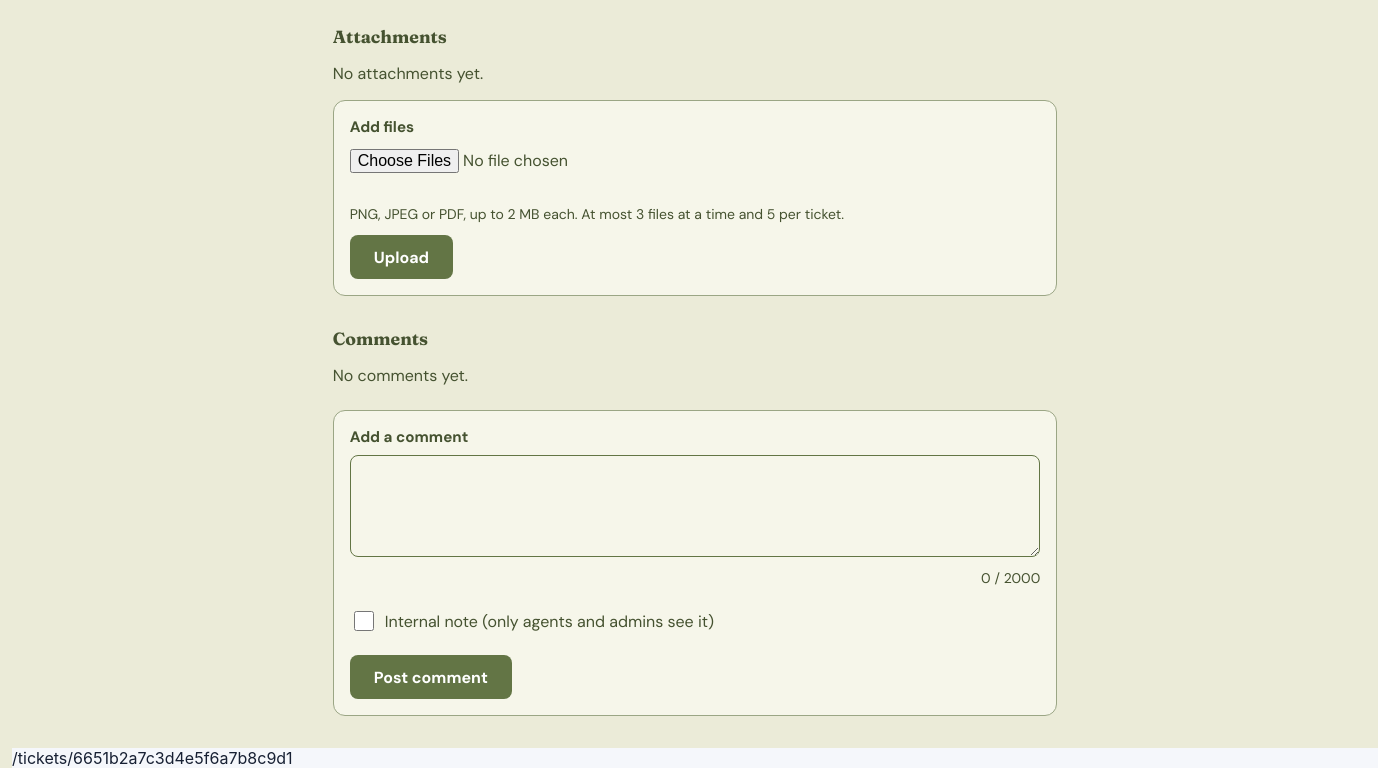
Test case: comment form › lets an agent post an internal note
(page scrolled)
Expected: the checkbox labelled "Internal note (only agents and admins see it)" is not checked, [354,611,374,631]
Type "Checked the logs." into the text box labelled "Add a comment" at (695, 506), box [350,455,1040,557]
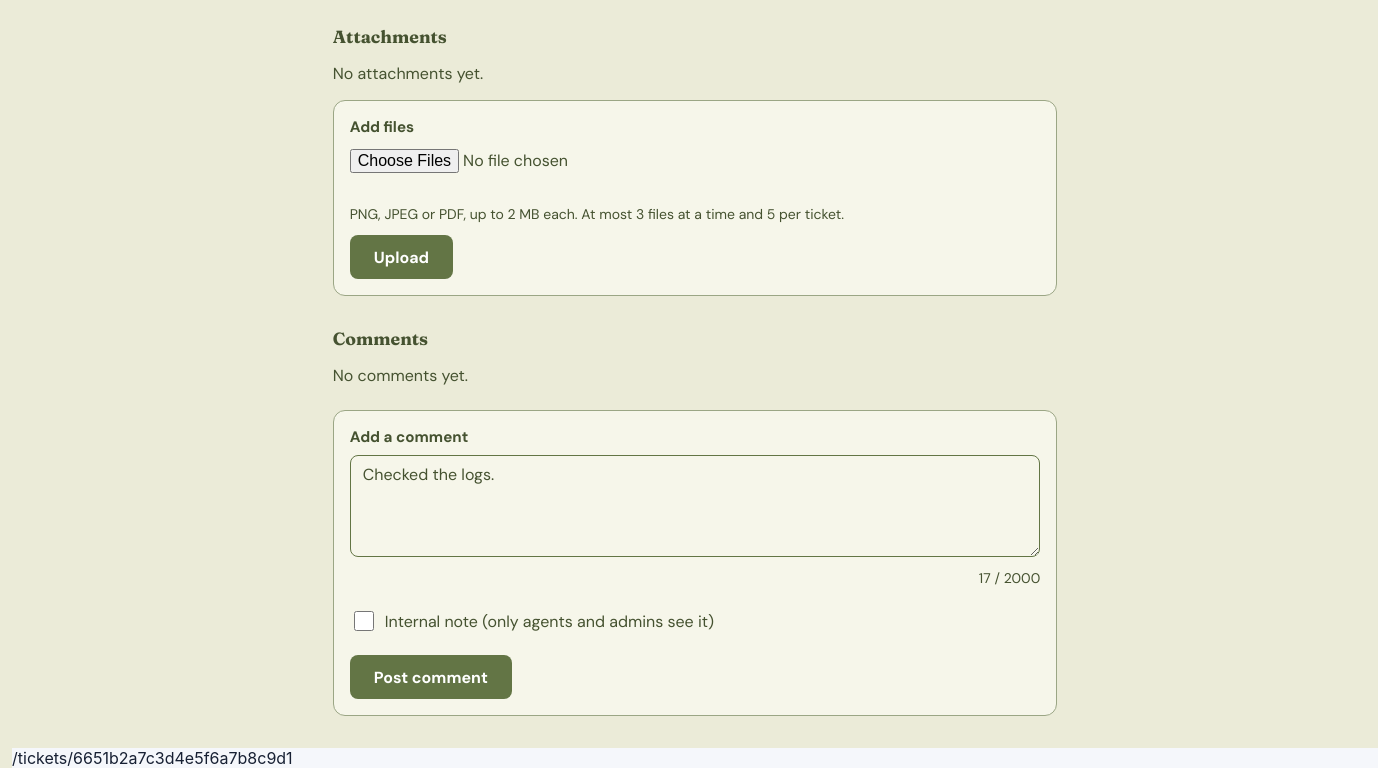
Click the checkbox labelled "Internal note (only agents and admins see it)" at (364, 621), box [354,611,374,631]
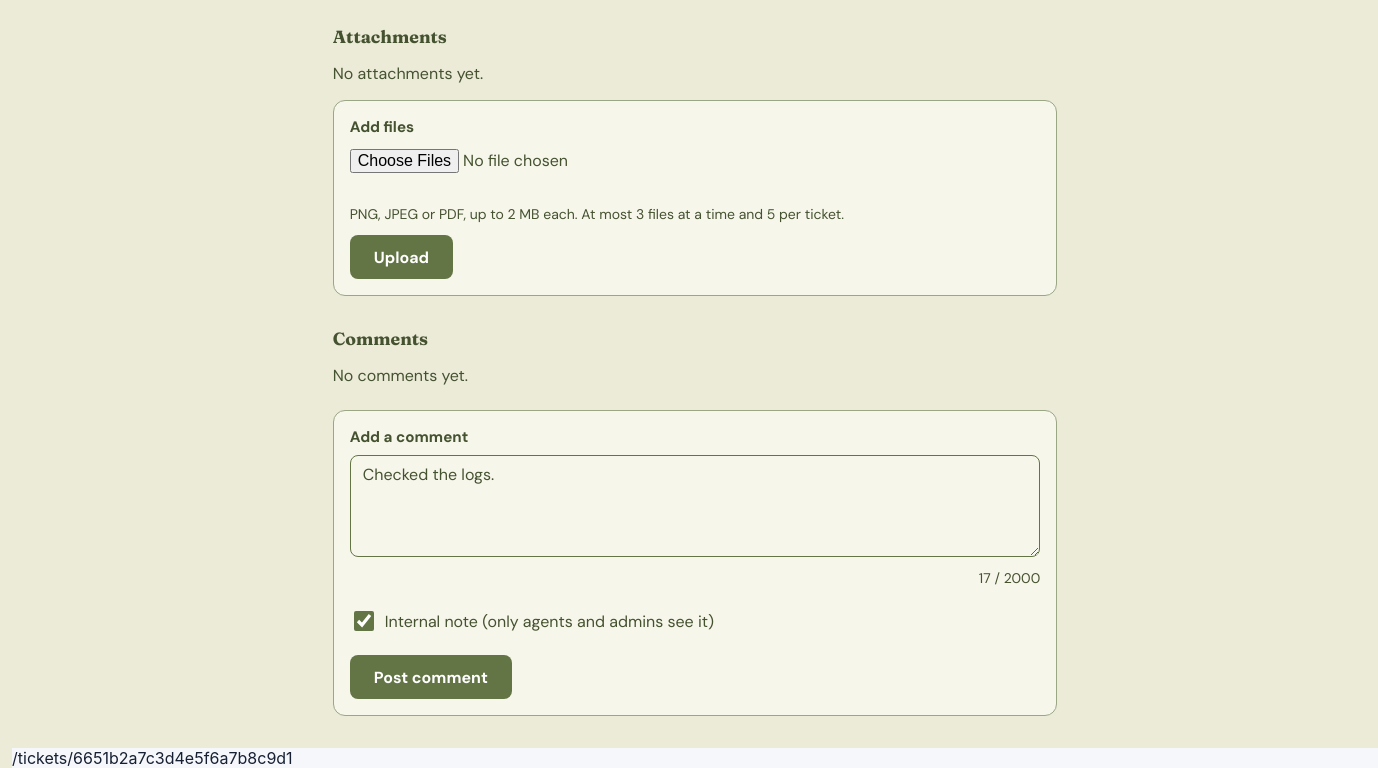
Click the button "Post comment" at (431, 677), box [350,655,512,699]
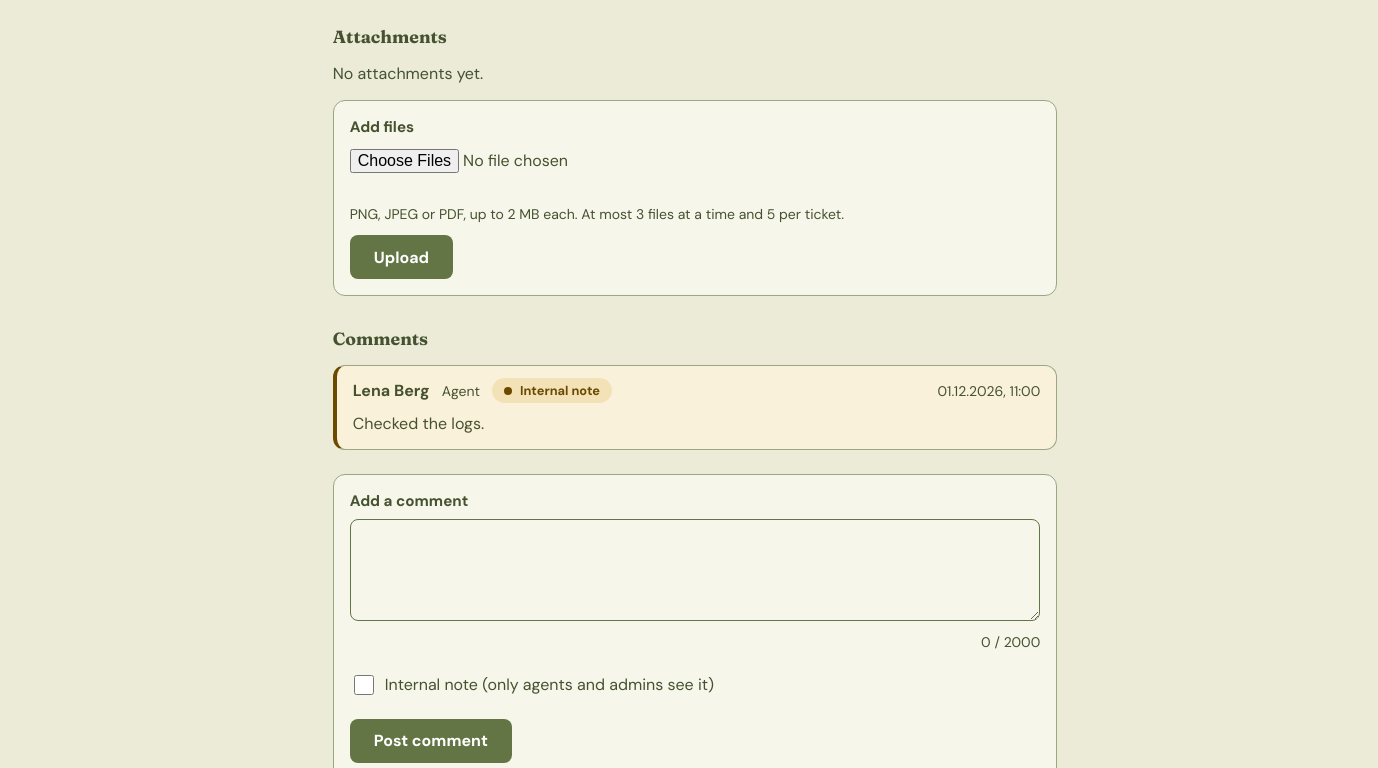
Expected: the checkbox labelled "Internal note (only agents and admins see it)" is not checked, [354,675,374,695]
Expected: the text "Internal note" is shown, [492,378,612,403]
